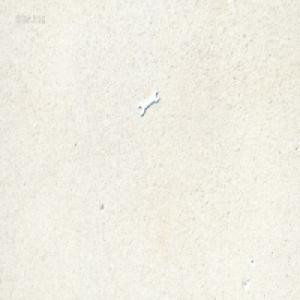Wrench: (137, 91, 159, 117)
